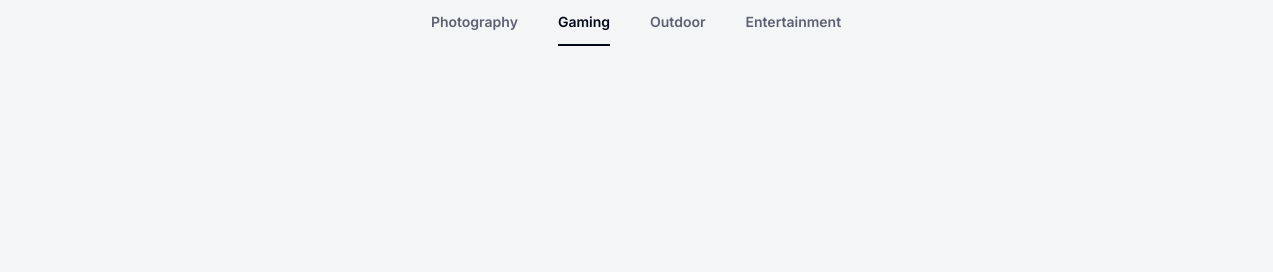
Test: CategoryTabs › shows only the hovered tab's sub-categories
The width and height of the screenshot is (1273, 272).
Hover over the link "Entertainment" at (793, 22), box [746,13,841,30]
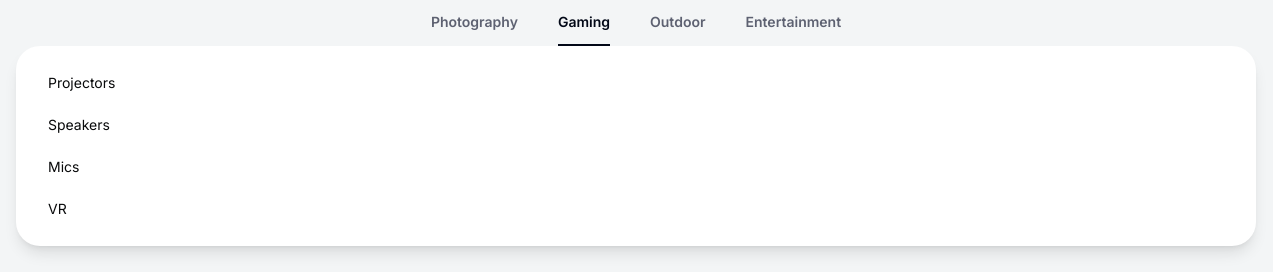
Result: the link "Projectors" is shown at [48,74,115,91]
